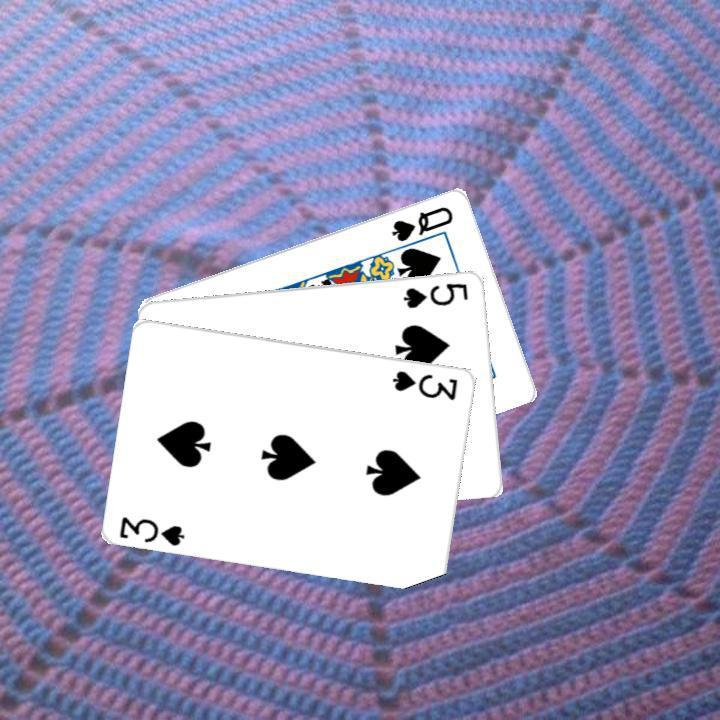3: (389, 365, 461, 402), (115, 512, 187, 548)
5: (399, 278, 471, 310)
Q: (387, 201, 456, 243)
